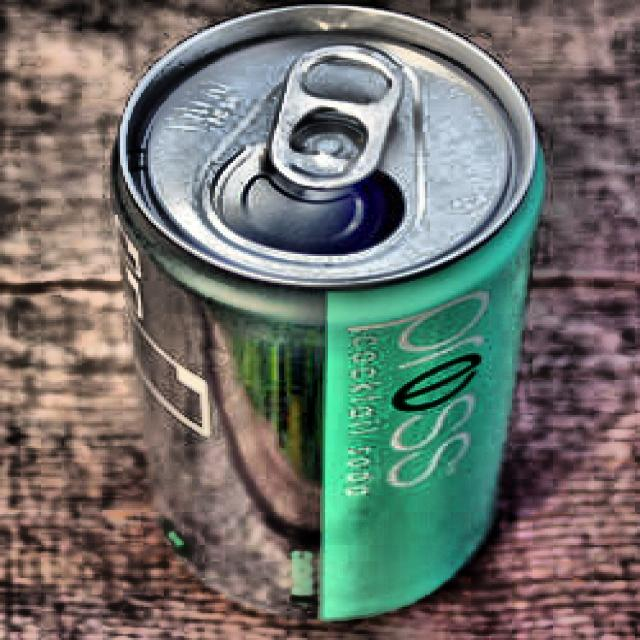Cans: (95, 0, 564, 635)
